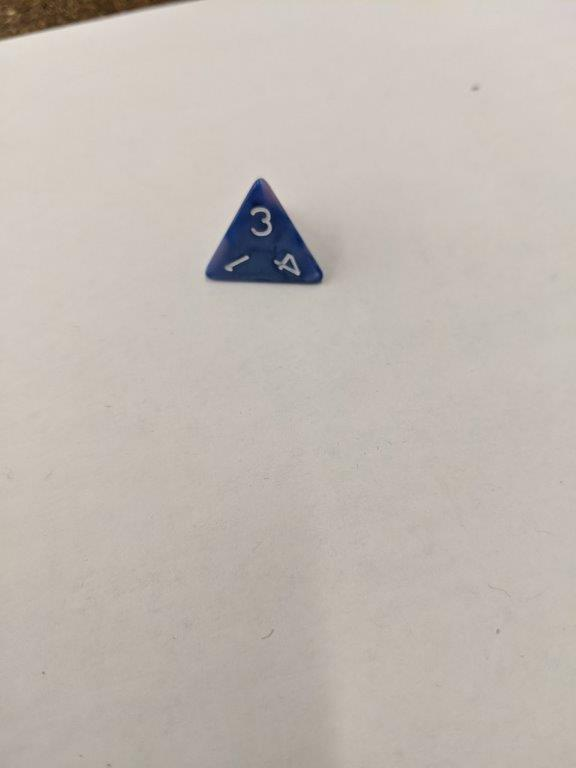d4-3: (200, 174, 326, 290)
